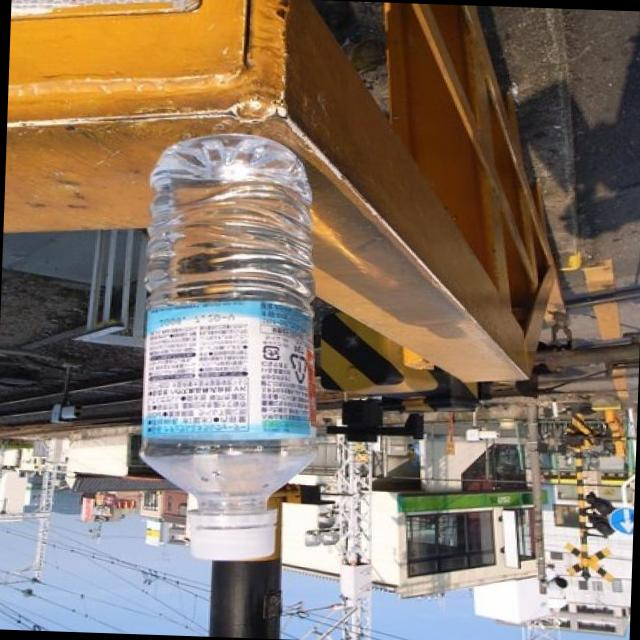plastic_bottle: (134, 129, 328, 563)
